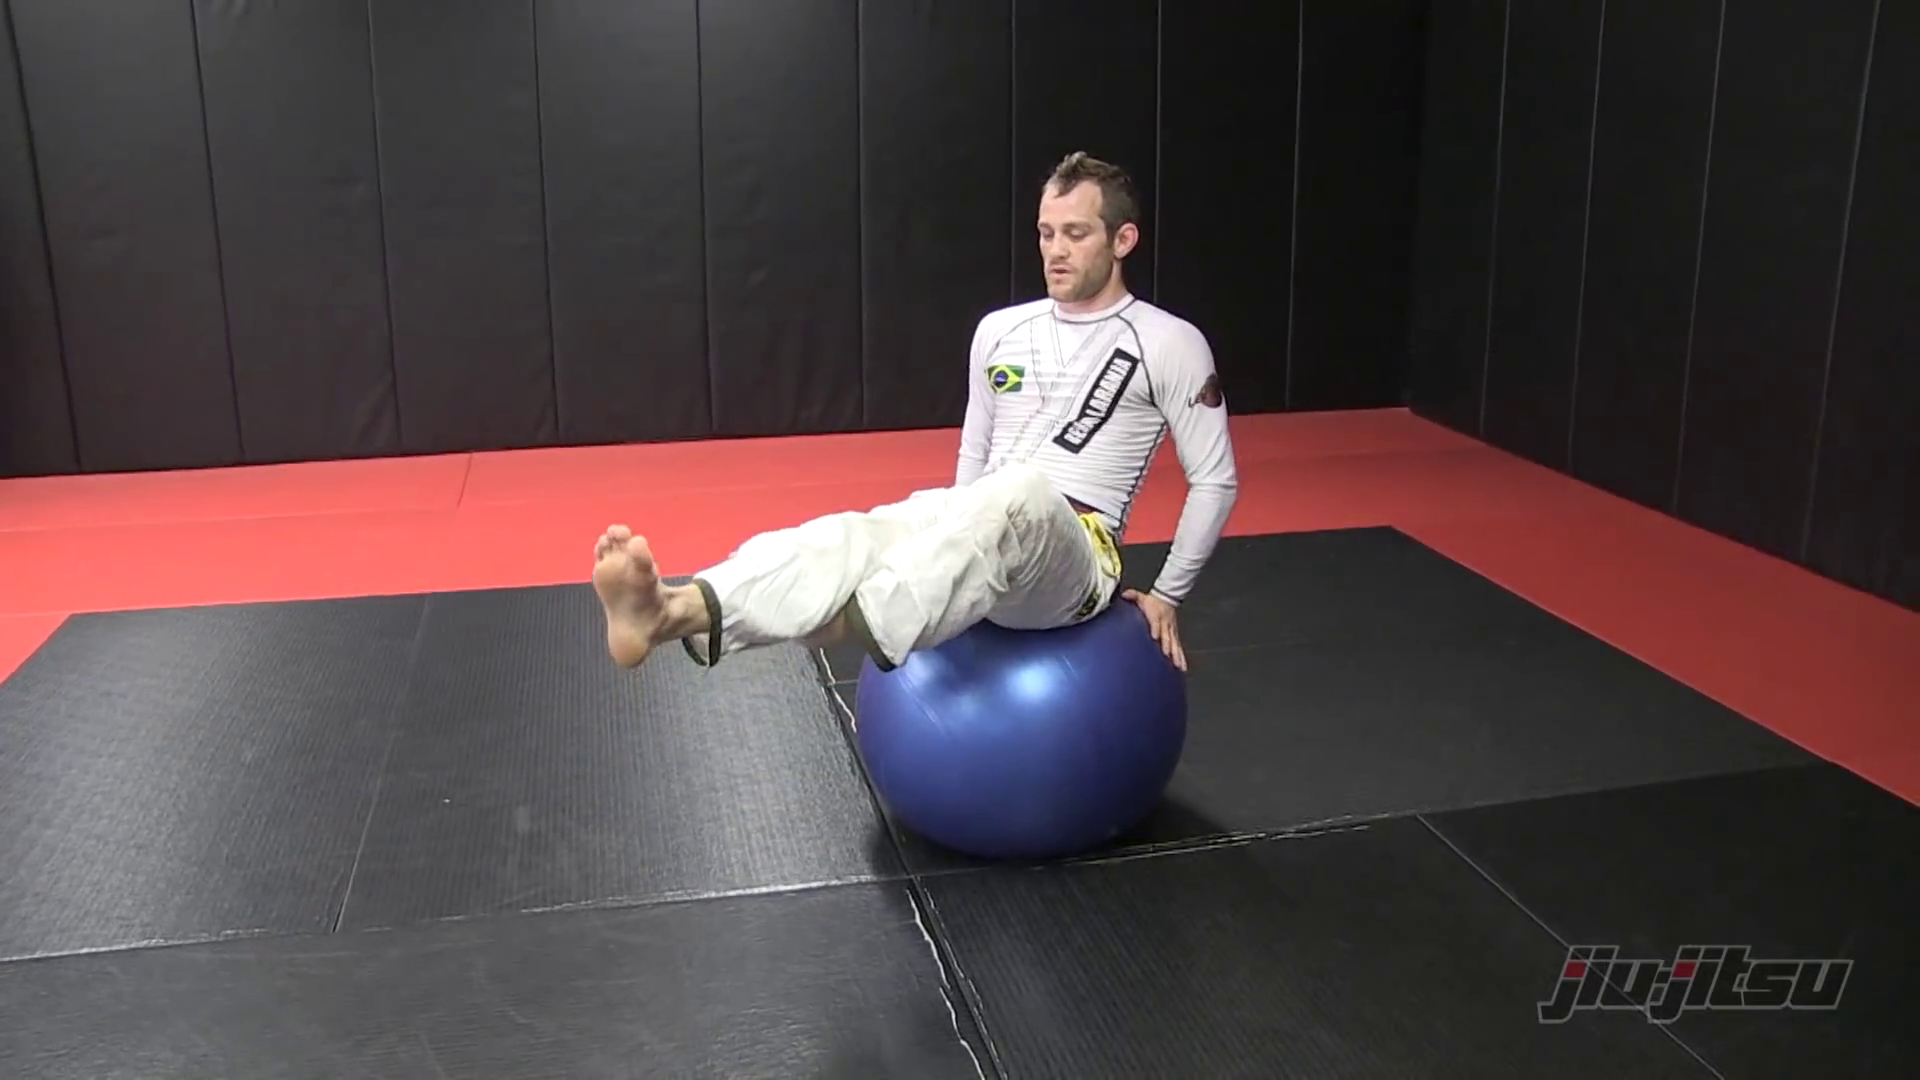yogaball: (847, 584, 1203, 870)
